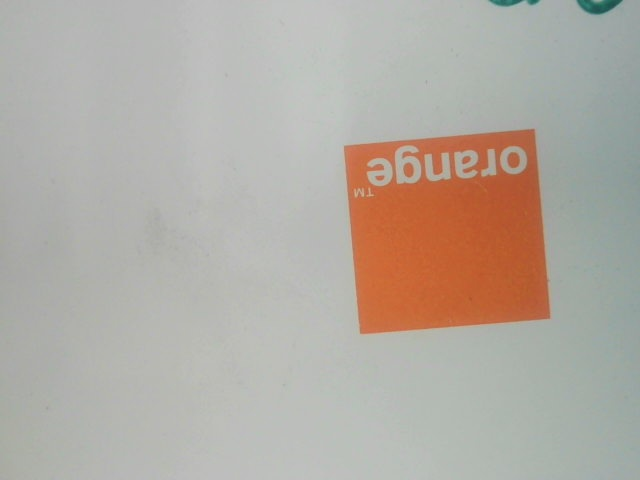AR_Orange: (315, 128, 565, 338)
